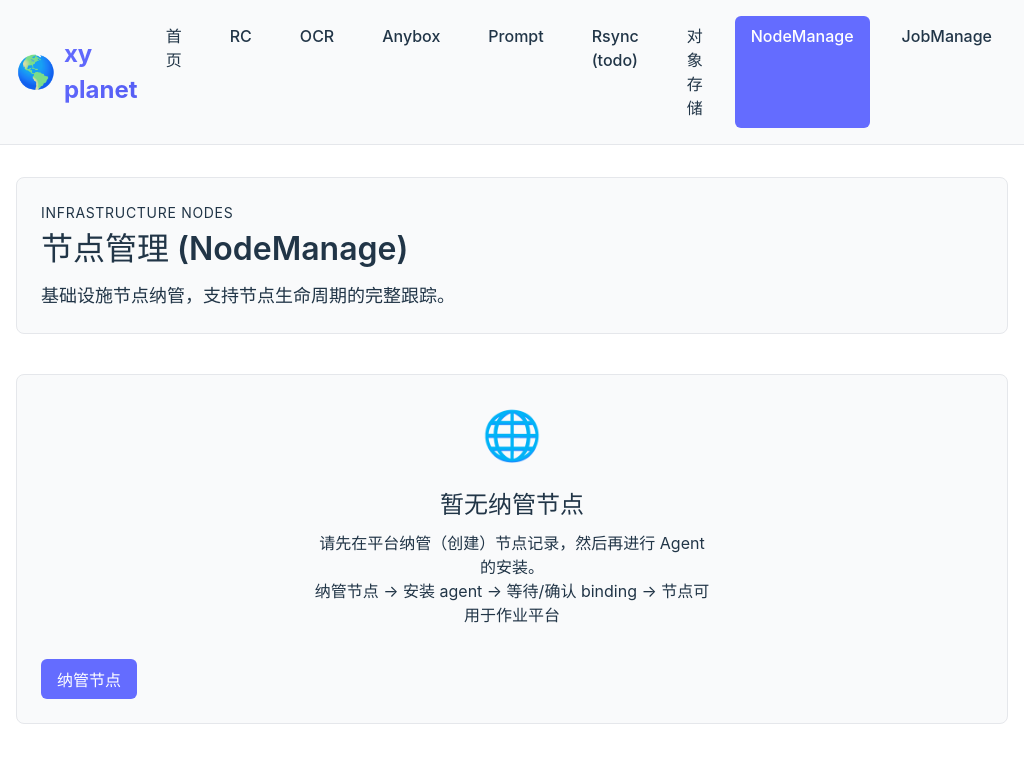
Test: NodeManagePage Integration › Create Node Onboarding › empty-state CTA opens create entry
This screenshot has width=1024, height=768.
Click the button "纳管节点": (89,679) [41,659,137,699]
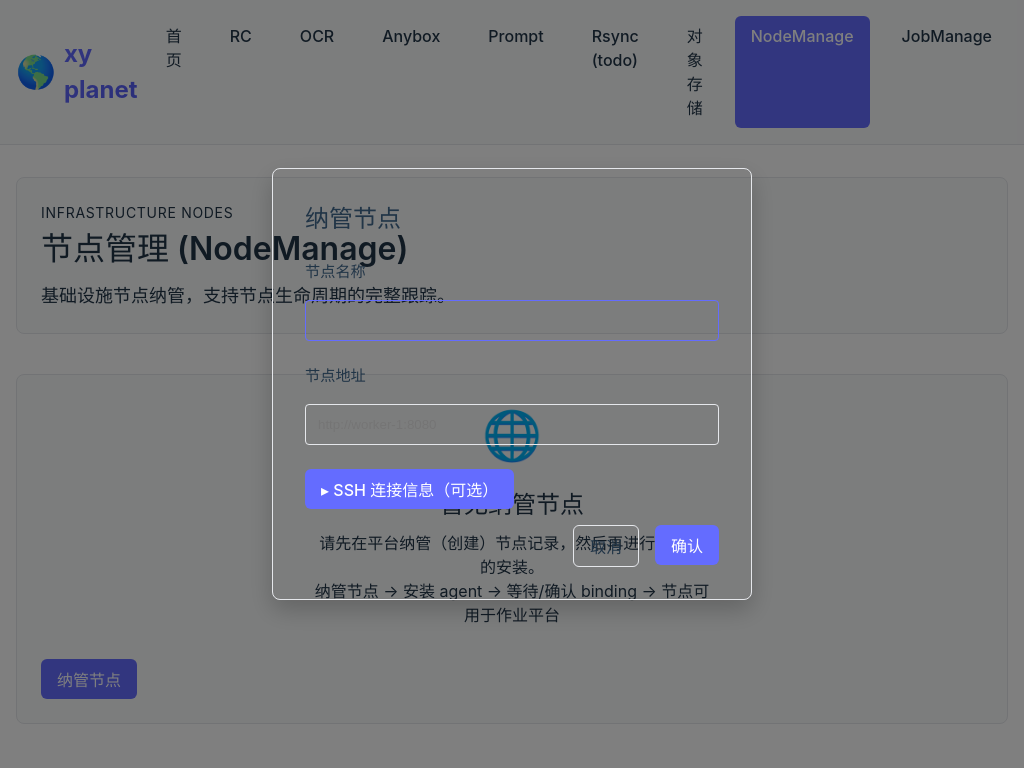
Now the dialog "纳管节点" is shown, box [272,168,752,600]
Now the field labelled "节点名称" is shown, box [305,300,719,341]
Now the field labelled "节点地址" is shown, box [305,404,719,445]
